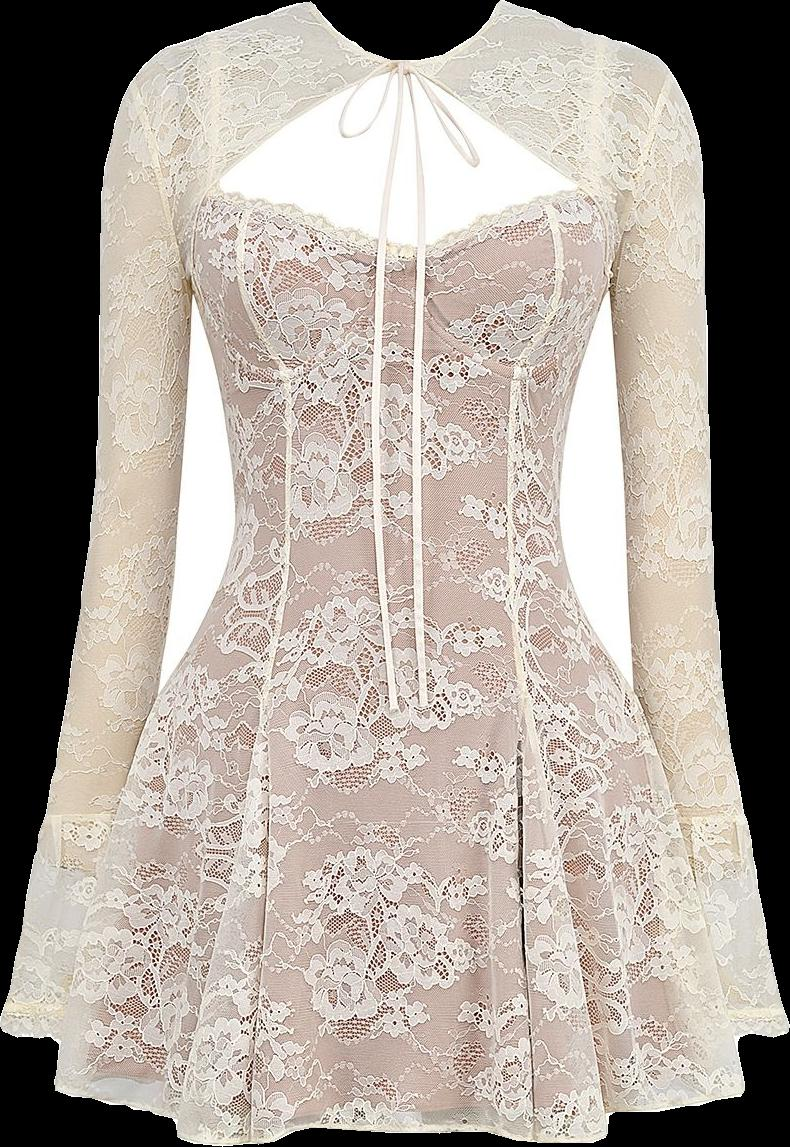Bodice: (130, 0, 672, 540)
Hemline: (51, 1079, 755, 1146)
Neckline: (199, 65, 605, 215), (199, 259, 588, 391), (195, 188, 601, 267), (300, 0, 508, 72), (187, 35, 223, 303), (595, 35, 615, 296)
Skirt: (55, 537, 749, 1144)
Sleeve: (0, 75, 191, 1045), (605, 75, 789, 1041)
Sleeveline: (597, 67, 678, 298), (126, 77, 201, 303)
